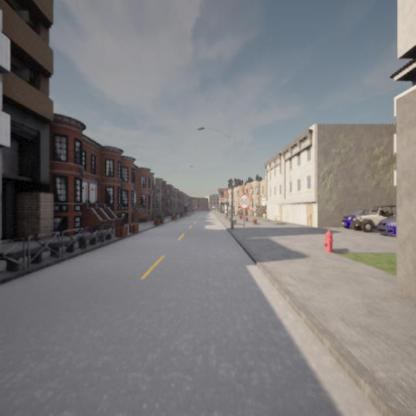traffic_sign_60: (239, 194, 250, 209)
vehicle: (341, 206, 392, 233), (378, 216, 396, 236)
